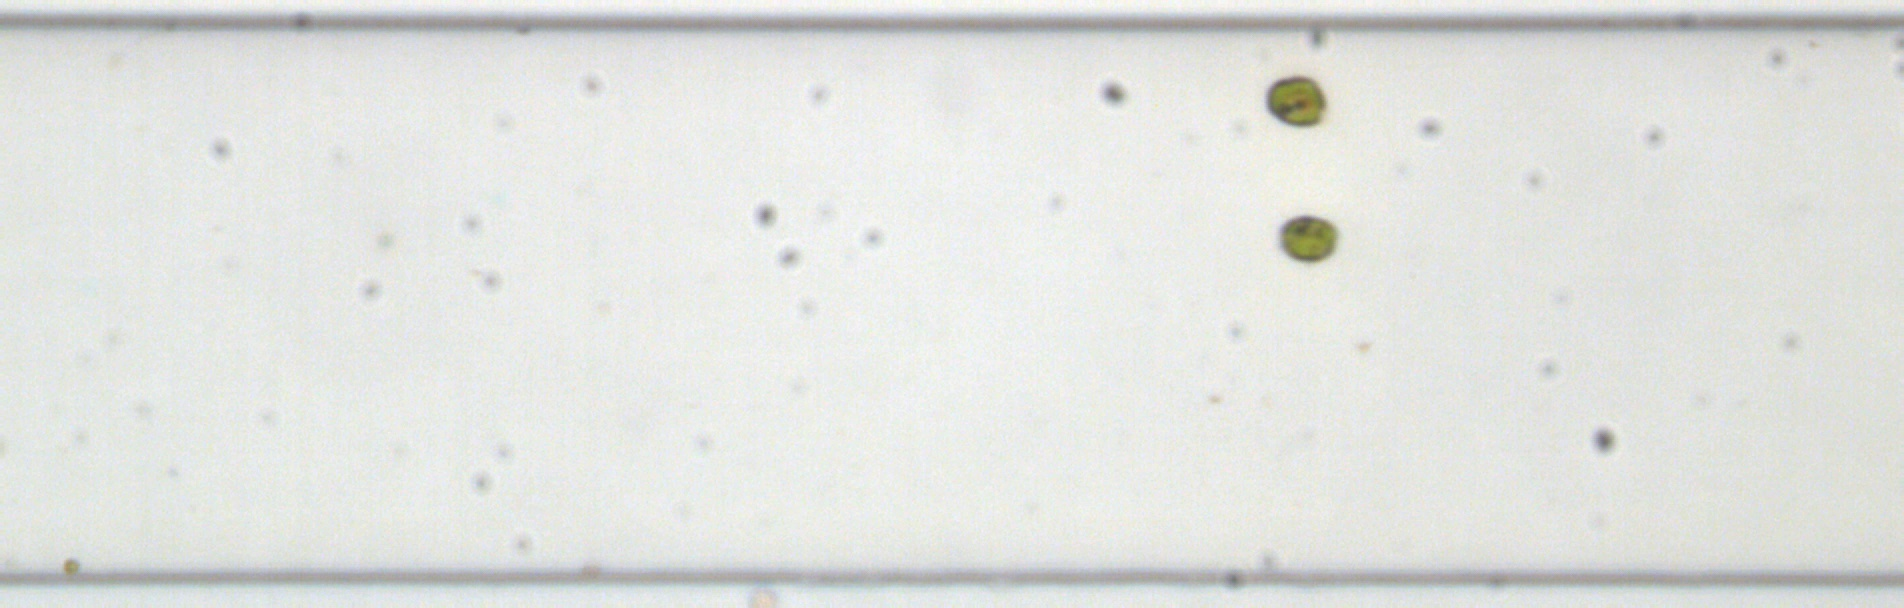Chlorella: (59, 555, 83, 576), (376, 229, 395, 252)
Haematococcus: (1263, 72, 1328, 127)
Platymonas: (1277, 211, 1339, 265)
